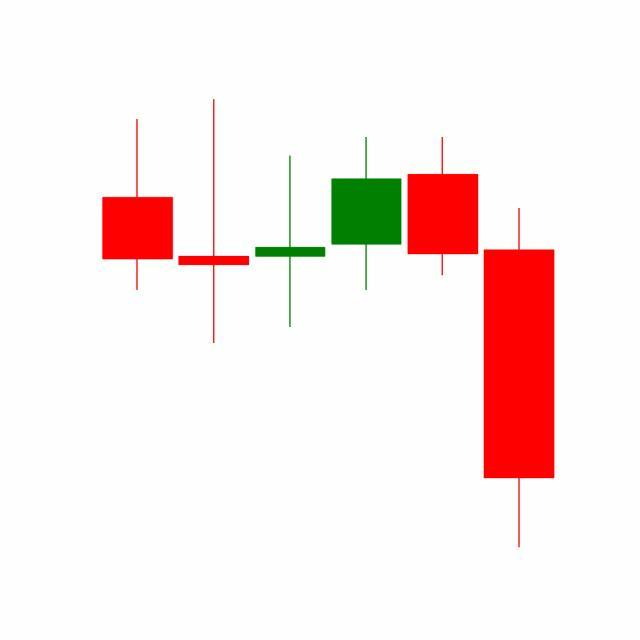Three Outside Up-Down: (326, 133, 555, 549)
